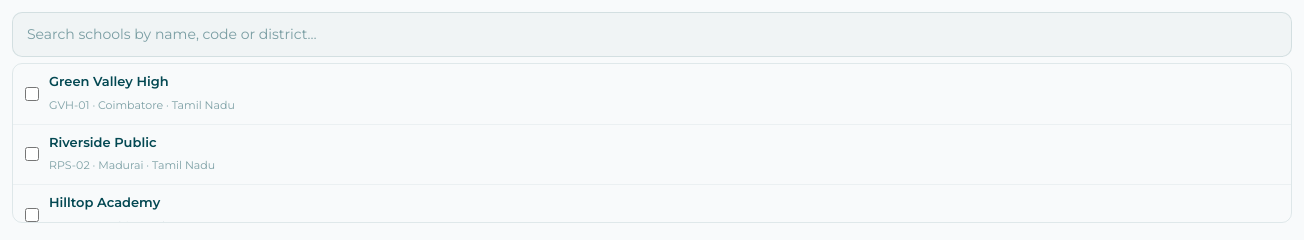
Test: SchoolMultiPicker › reports when nothing matches the query
Type "zzzz" into the search field at (652, 34), box x1=12 y1=12 x2=1292 y2=57
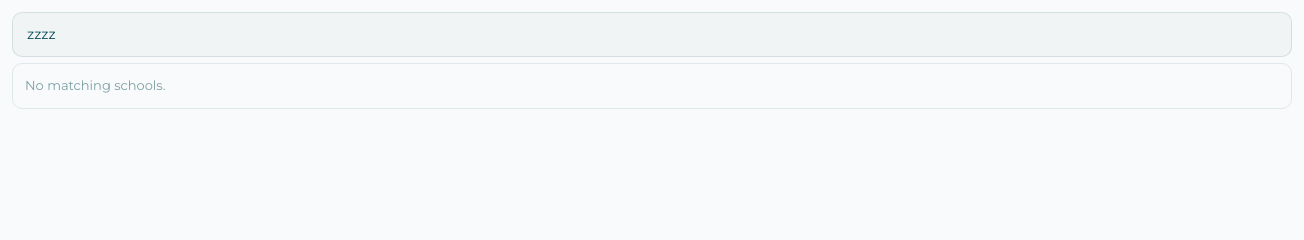
Expected: no checkboxes are shown
Expected: the text "No matching schools." is shown, x1=25 y1=77 x2=166 y2=93
